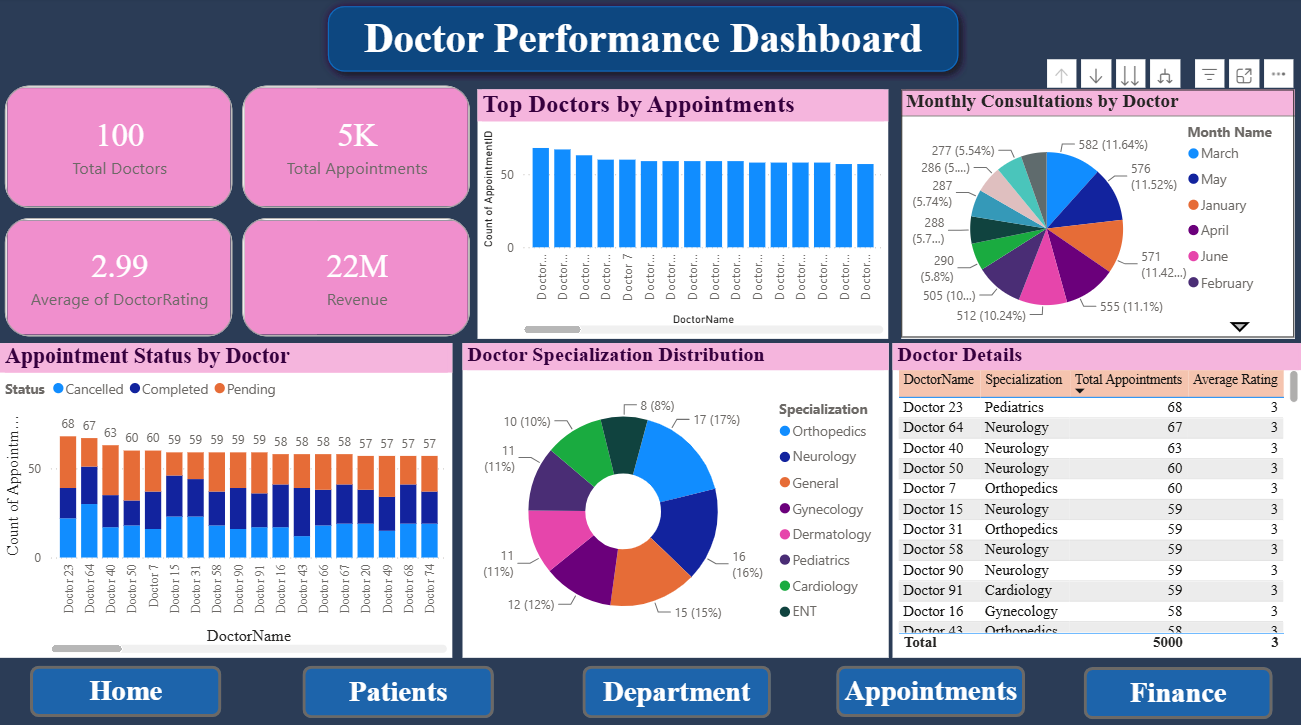

The page's visual inventory and layout, read from the dashboard file:
{"tool":"powerbi","page":{"name":"Doctor Performance","canvas":[1280,720],"ordinal":2},"visuals":[{"type":"shape","box":[312.9,0,636.8,82.2],"z":0},{"type":"donutChart","title":"Doctor Specialization Distribution","fields":{"Category":["Doctors.Specialization"],"Y":["CountNonNull(Doctors.DoctorID)"]},"box":[453.6,339.5,418.8,308.9],"z":1000},{"type":"clusteredColumnChart","title":"Top Doctors by Appointments","fields":{"Category":["Doctors.DoctorName"],"Y":["CountNonNull(Appointments.AppointmentID)"]},"box":[468.9,90.4,403.5,244.9],"z":2000},{"type":"columnChart","title":"Appointment Status by Doctor","fields":{"Category":["Doctors.DoctorName"],"Y":["CountNonNull(Appointments.AppointmentDate)"],"Series":["Appointments.Status"]},"box":[0,339.5,443.8,308.9],"z":3000},{"type":"tableEx","title":"Doctor Details","fields":{"Values":["Doctors.DoctorName","Doctors.Specialization","Doctors.Total Appointments","Doctors.Average Rating"]},"box":[876.5,339.5,403.5,308.9],"z":4000},{"type":"cardVisual","fields":{"Data":["Doctors.Total Doctors"]},"box":[0,82.1,233.7,130.8],"z":5000},{"type":"cardVisual","fields":{"Data":["Doctors.Total Appointments"]},"box":[233.7,82.1,233.7,130.8],"z":6000},{"type":"cardVisual","fields":{"Data":["Patients.Revenue"]},"box":[233.7,212.9,233.7,126.6],"z":7000},{"type":"cardVisual","fields":{"Data":["Avg(Feedback.DoctorRating)"]},"box":[0,212.9,233.7,126.6],"z":8000},{"type":"pieChart","title":"Monthly Consultations by Doctor","fields":{"Category":["Appointments.Month Name","Doctors.DoctorName"],"Y":["CountNonNull(Appointments.AppointmentID)"]},"box":[884.9,90.4,386.8,244.9],"z":9000},{"type":"actionButton","box":[296.3,656.7,187.8,51.5],"z":10000},{"type":"actionButton","box":[571.8,656.7,185,51.5],"z":11000},{"type":"actionButton","box":[29.4,656.4,187.7,50.3],"z":12000},{"type":"actionButton","box":[820.9,656.4,185.3,50.3],"z":13000},{"type":"actionButton","box":[1063.4,657.3,185.4,51.2],"z":14000}]}

Visuals, with their boxes in screenshot pixels (x1, y1, x2, y2), scaled from the page's 1280x720 canvas onto the 1301x725 screenshot:
shape: x1=318, y1=0, x2=965, y2=83
"Doctor Specialization Distribution" donutChart: x1=461, y1=342, x2=887, y2=653
"Top Doctors by Appointments" clusteredColumnChart: x1=477, y1=91, x2=887, y2=338
"Appointment Status by Doctor" columnChart: x1=0, y1=342, x2=451, y2=653
"Doctor Details" tableEx: x1=891, y1=342, x2=1300, y2=653
cardVisual - Doctors.Total Doctors: x1=0, y1=83, x2=238, y2=214
cardVisual - Doctors.Total Appointments: x1=238, y1=83, x2=475, y2=214
cardVisual - Patients.Revenue: x1=238, y1=214, x2=475, y2=342
cardVisual - Avg(Feedback.DoctorRating): x1=0, y1=214, x2=238, y2=342
"Monthly Consultations by Doctor" pieChart: x1=899, y1=91, x2=1293, y2=338
actionButton: x1=301, y1=661, x2=492, y2=713
actionButton: x1=581, y1=661, x2=769, y2=713
actionButton: x1=30, y1=661, x2=221, y2=712
actionButton: x1=834, y1=661, x2=1023, y2=712
actionButton: x1=1081, y1=662, x2=1269, y2=713
